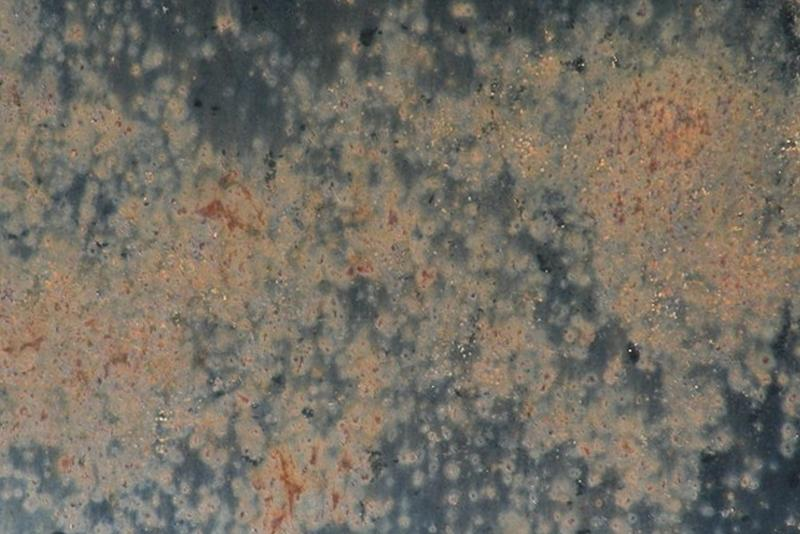rust: (244, 424, 377, 530), (186, 183, 314, 289)
